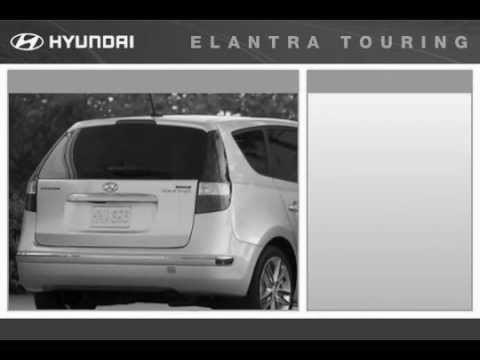car: (17, 116, 303, 309)
